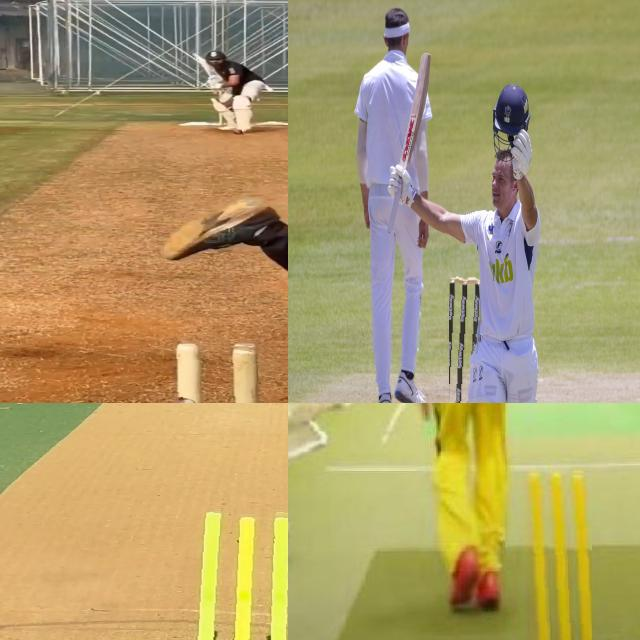Cricket ball: (232, 129, 244, 135)
Stumps: (185, 508, 288, 640), (525, 468, 592, 640), (174, 341, 288, 403), (449, 273, 483, 403)
